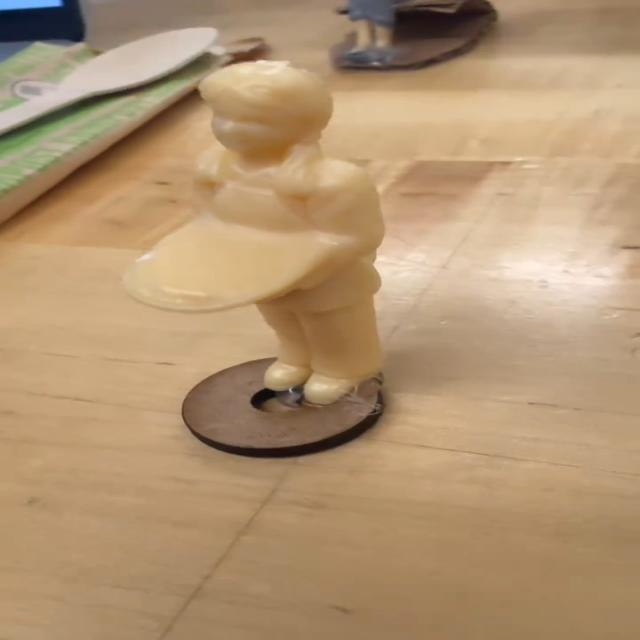Unauthorized: (138, 47, 474, 428)
